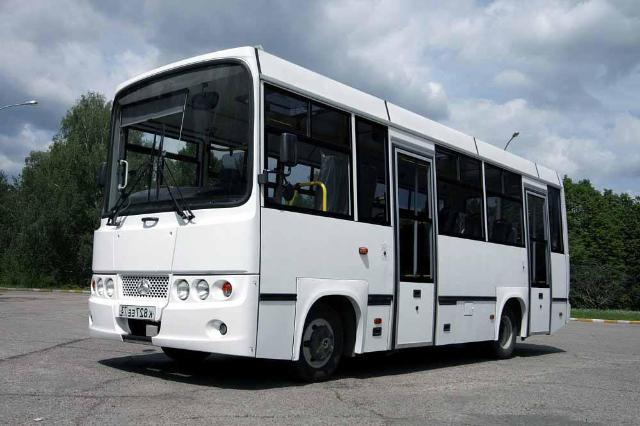bus: (88, 40, 570, 380)
